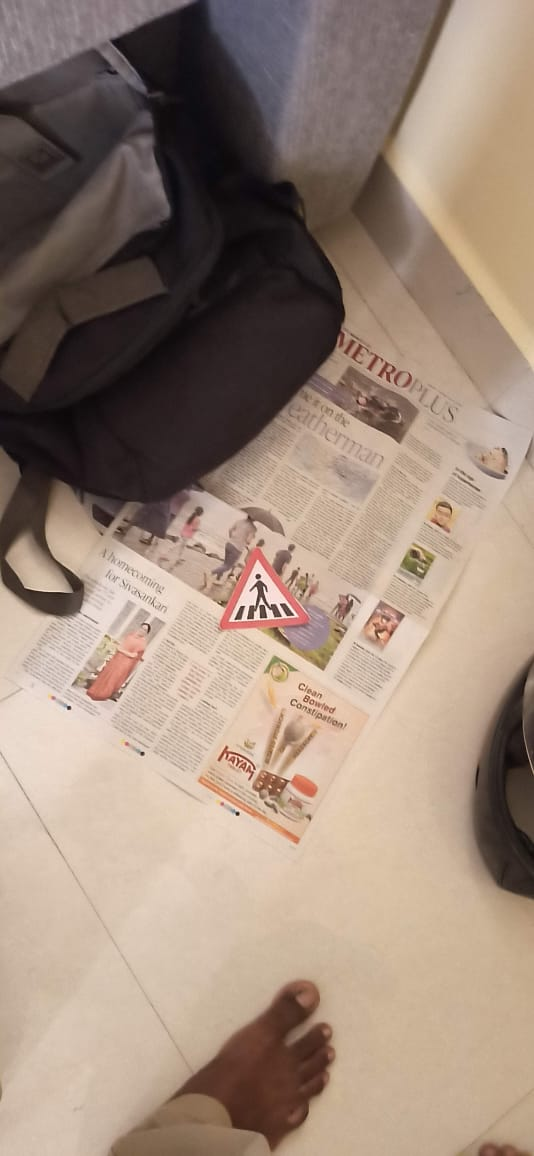PEDESTRIAN CROSSING: (210, 544, 317, 637)
